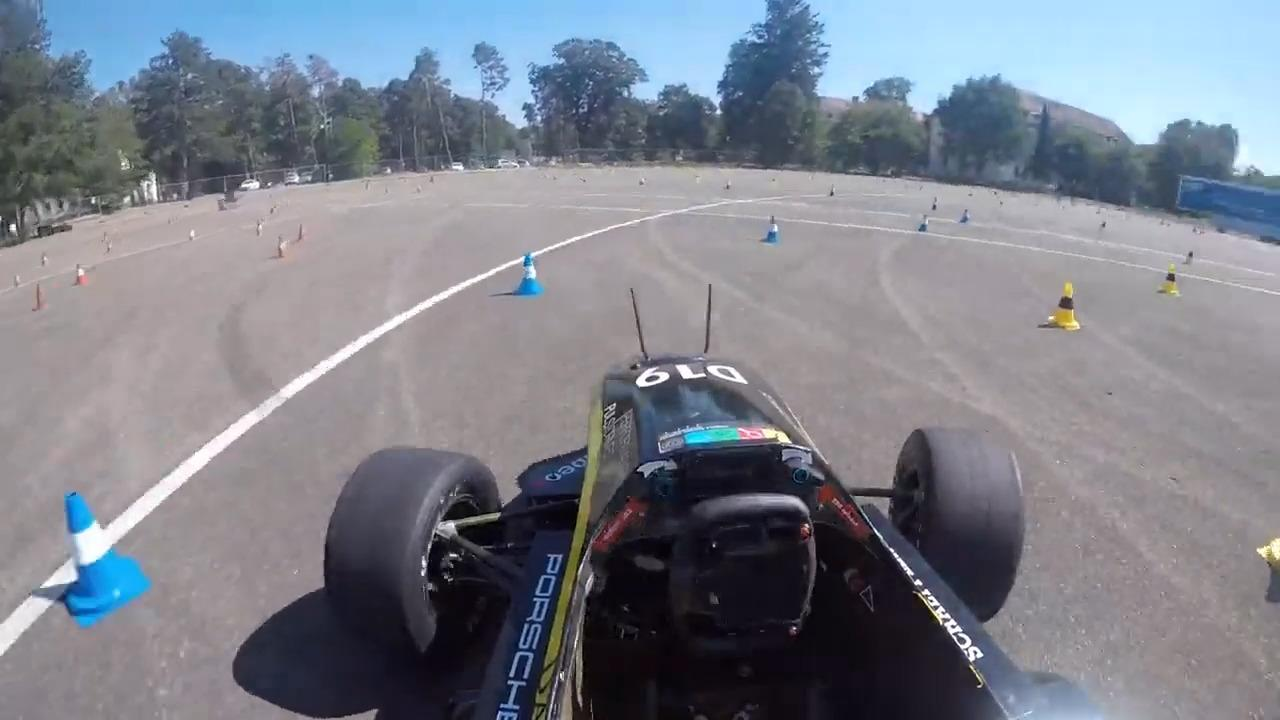blue_cone: (37, 490, 143, 613), (505, 250, 558, 301), (760, 210, 789, 244), (911, 205, 940, 236)
yellow_cone: (1047, 278, 1086, 339), (1155, 257, 1187, 297)
